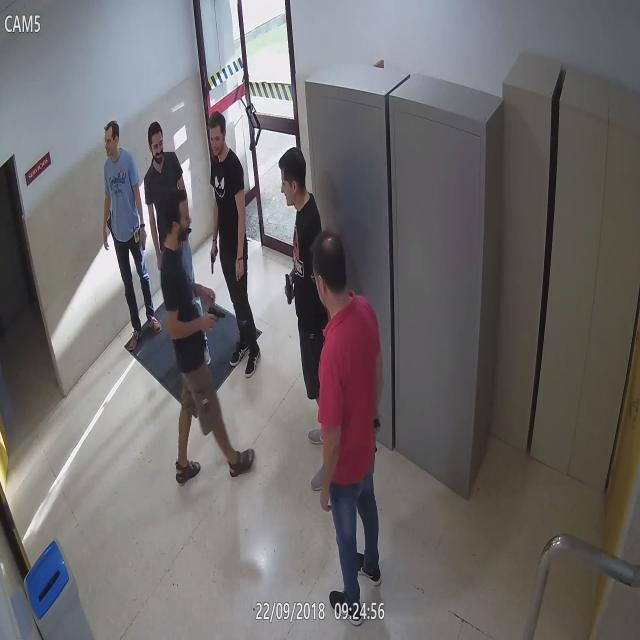Gun: (207, 241, 226, 279)
